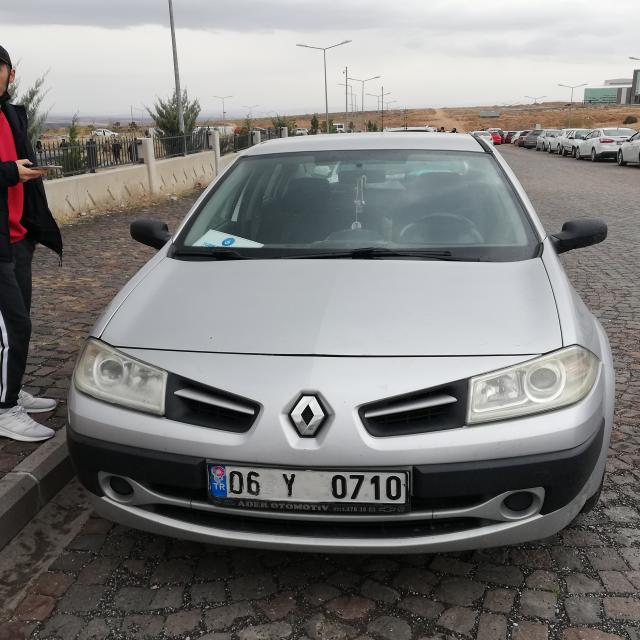license_plate: (207, 465, 410, 506)
